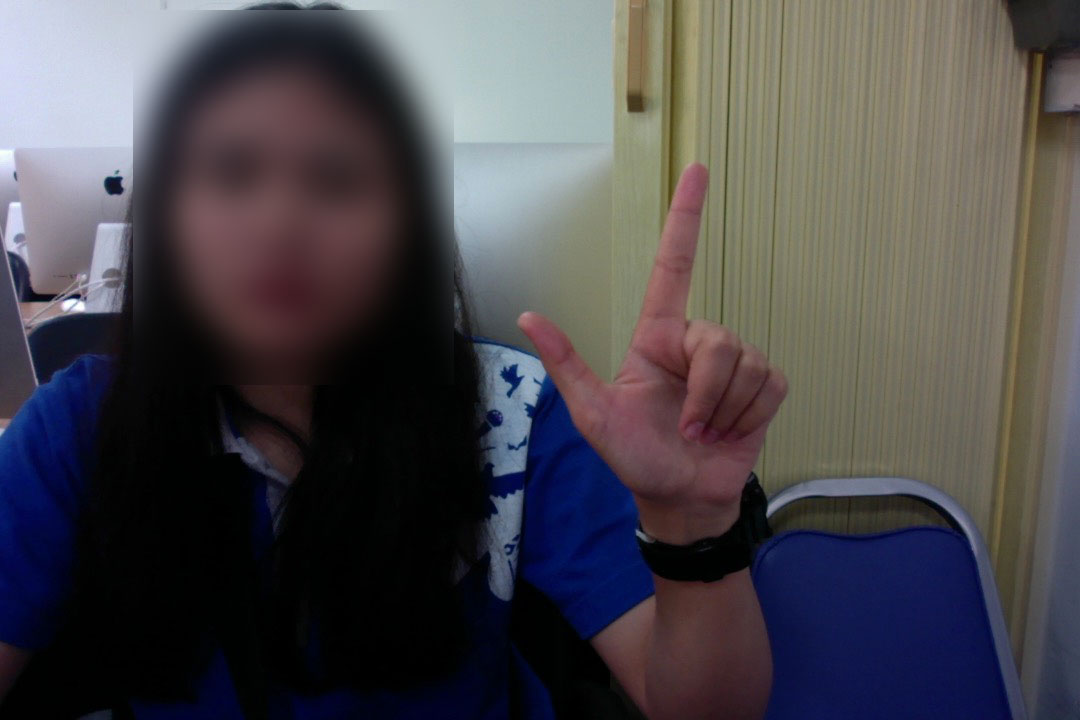lor: (509, 150, 803, 570)
